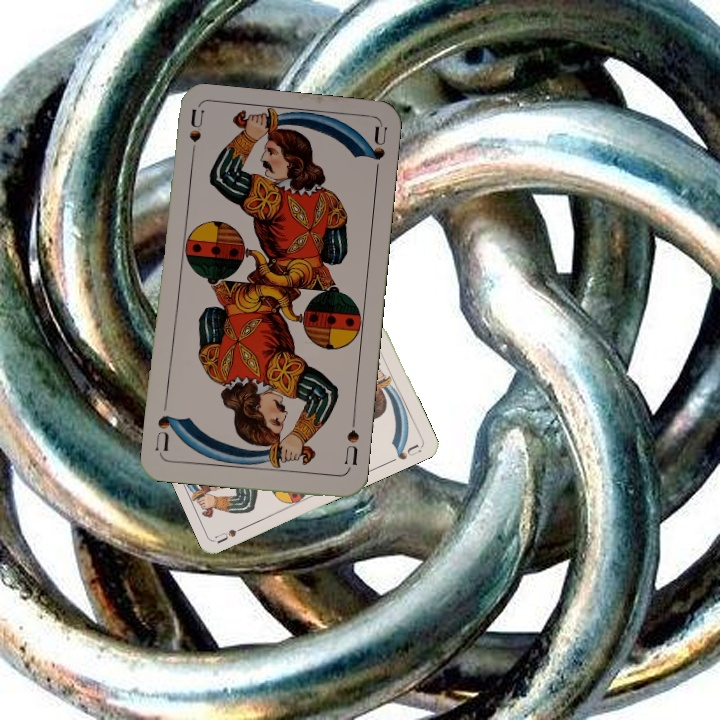SU: (185, 107, 206, 167), (340, 414, 361, 473), (212, 520, 252, 547)
